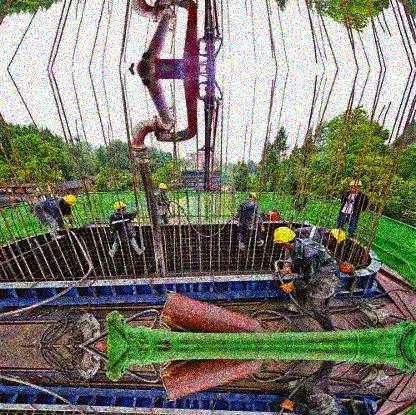helmet: (273, 226, 298, 250), (325, 227, 346, 243), (350, 179, 363, 194), (114, 201, 127, 212), (159, 183, 168, 194), (248, 192, 257, 202)
